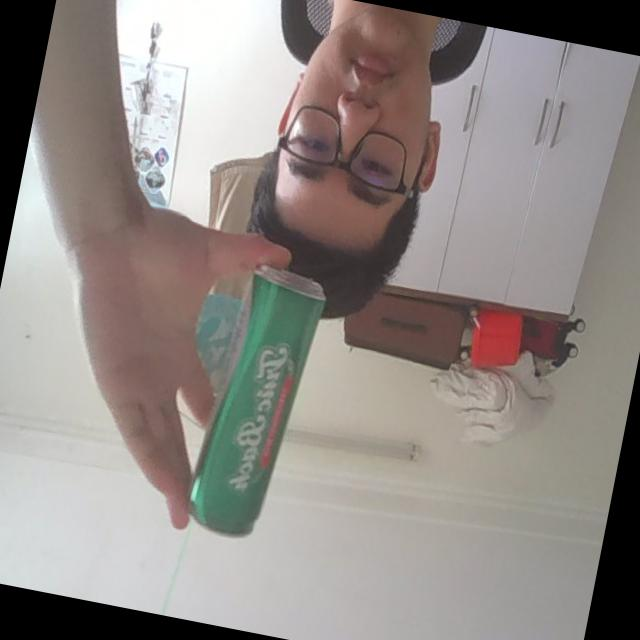Bia-Truc-Bach: (180, 258, 331, 548)
